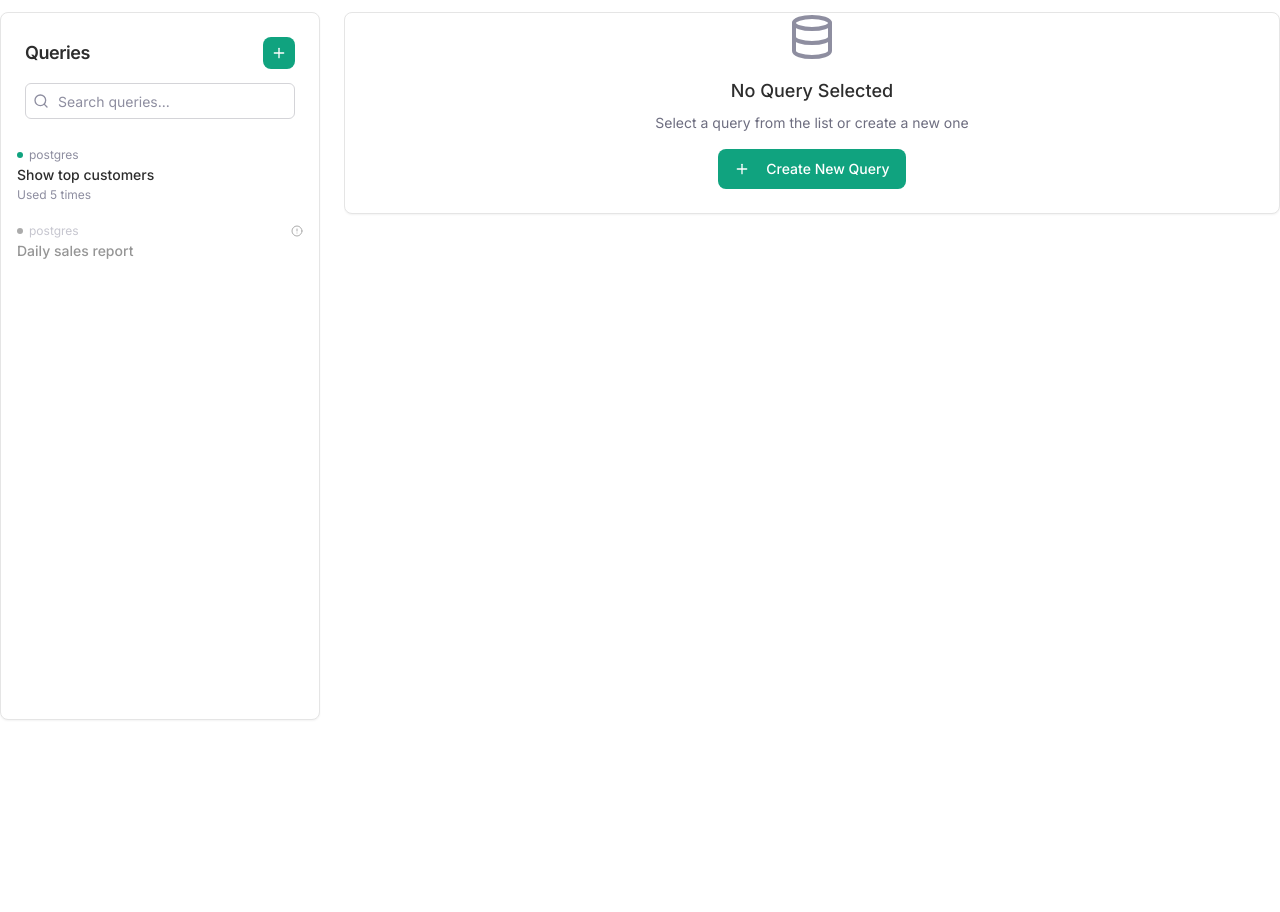
Scenario: QueriesView › shows no results message when search has no matches
Expected: the text "Show top customers" is shown, 17,166 -> 154,183
Type "nonexistent" into the field with placeholder "Search queries...". click: (160, 101)
box: 25,83 -> 295,119
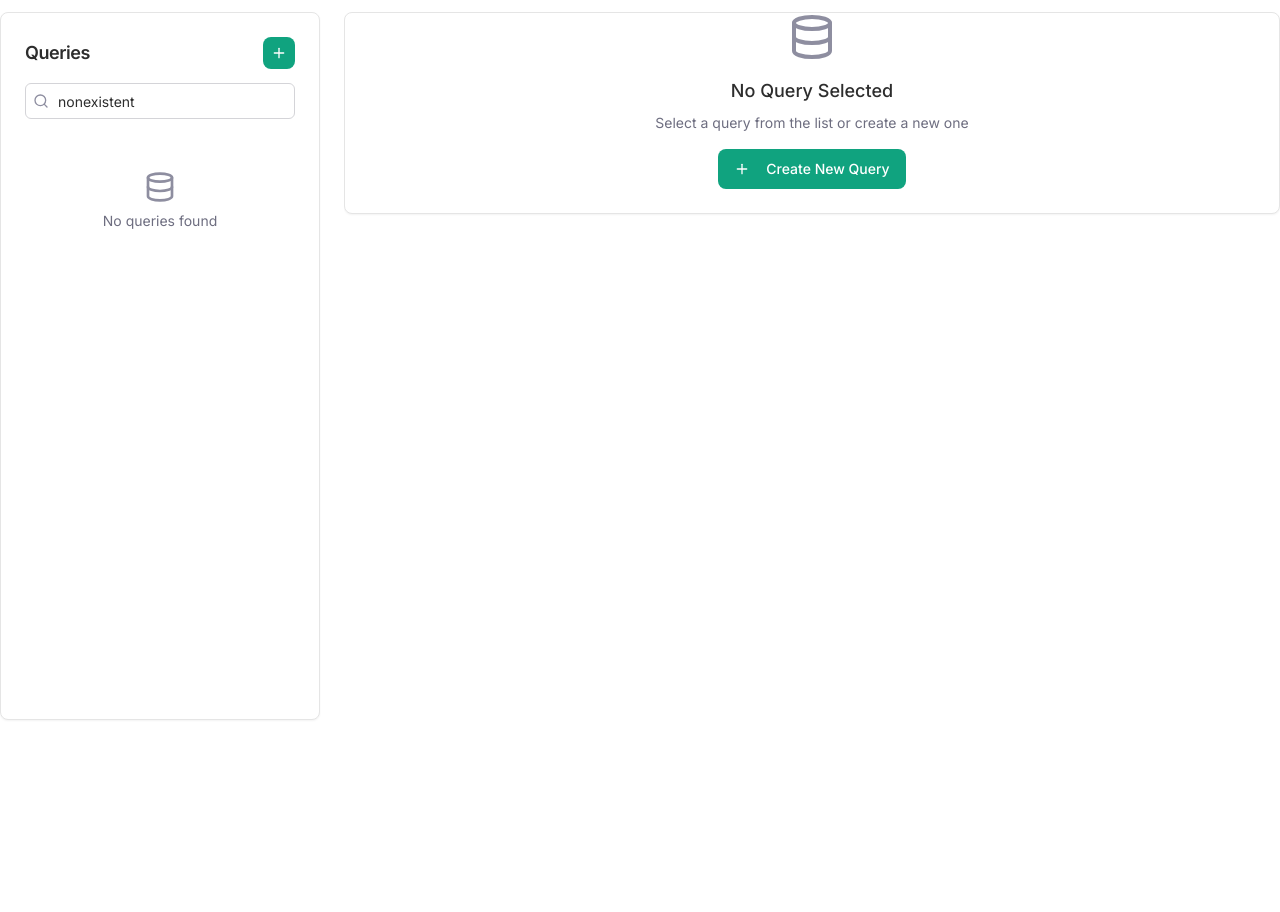
Expected: the text "No queries found" is shown, 103,212 -> 217,229
